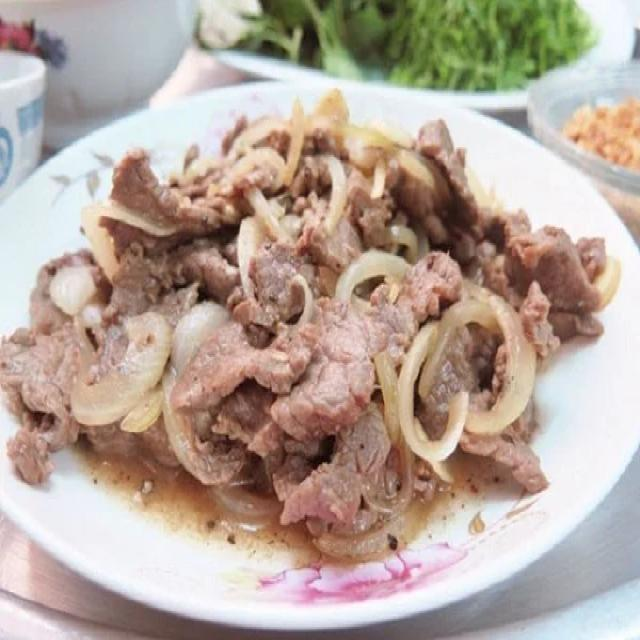bo xao: (0, 91, 619, 562)
